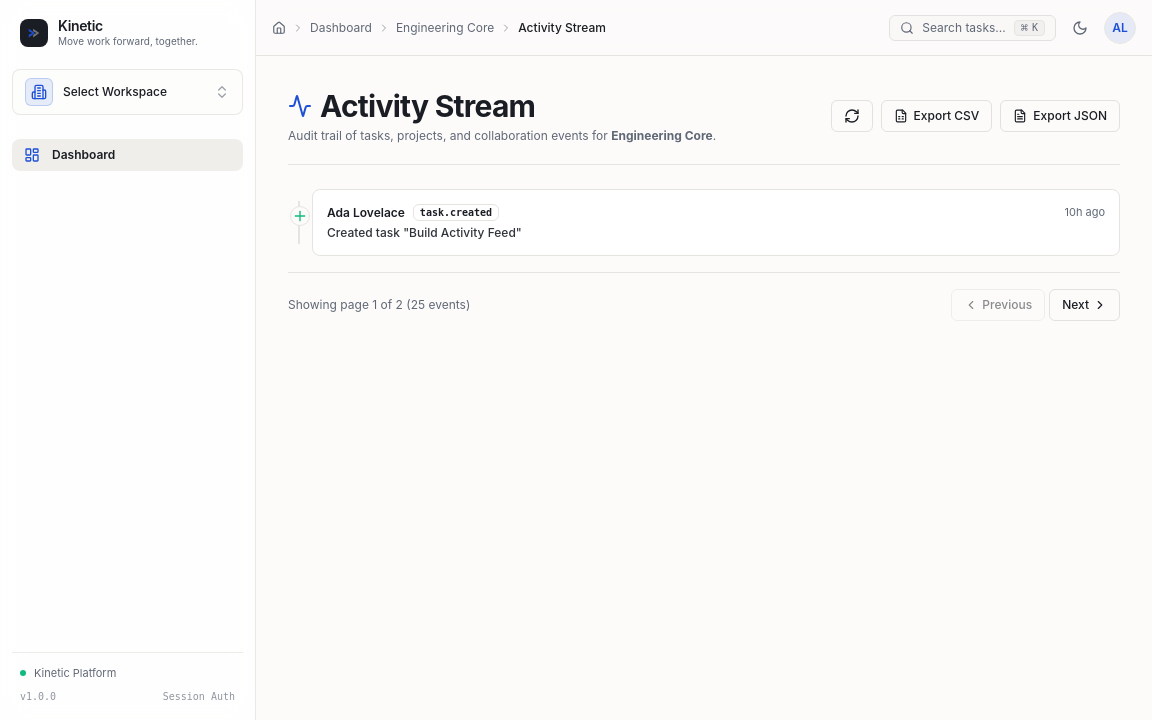
Test: Workspace Activity Feed Flow › handles pagination between pages
The width and height of the screenshot is (1152, 720).
Expected: the text "Showing page 1 of 2 (25 events)" is shown, [288,297,470,313]
Click the button "Next" at (1085, 305), box [1049,289,1120,321]
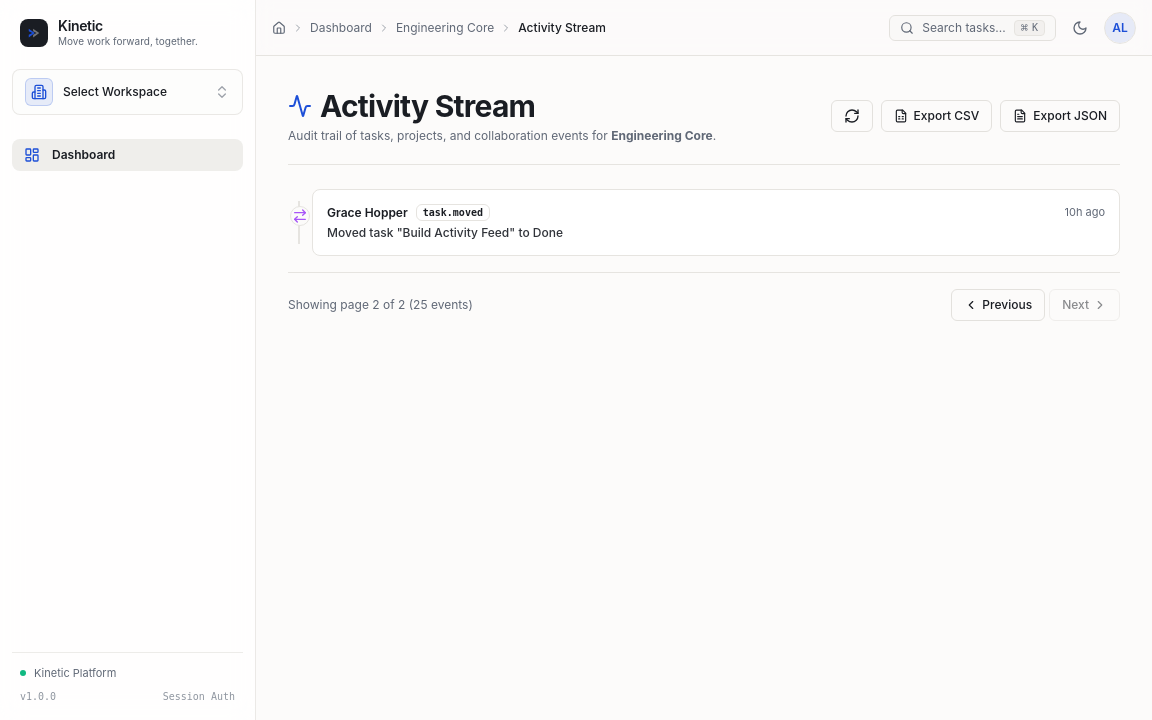
Expected: the text "Showing page 2 of 2 (25 events)" is shown, [288,297,473,313]
